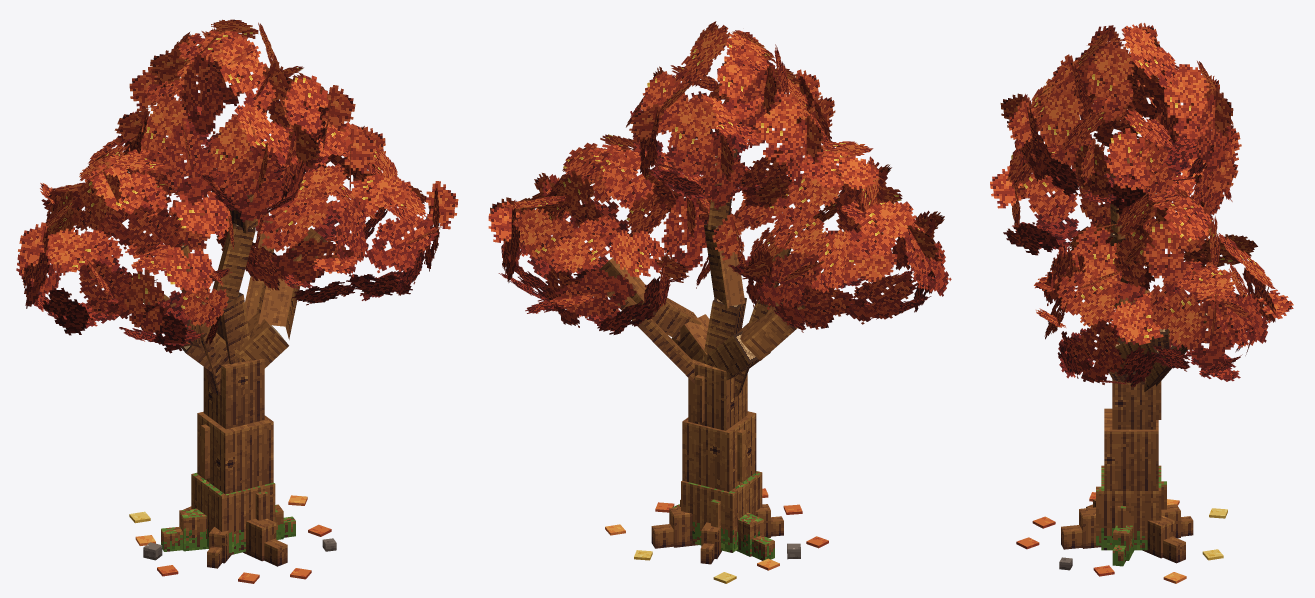
The model's file is maple_tree.glb.
The picture shows the model from 3 angles, left to right: view 1: azimuth 30°, elevation 25°; view 2: azimuth 150°, elevation 25°; view 3: azimuth 270°, elevation 25°; orthographic projection. The views are drawn at different scales.
Visible parts, largest first — view 1: maple_tree; view 2: maple_tree; view 3: maple_tree.
Boxes of the visible parts, left/top/right/bottom form: maple_tree: left=16, top=19, right=458, bottom=583; maple_tree: left=488, top=21, right=951, bottom=583; maple_tree: left=990, top=23, right=1293, bottom=583.
Bounding box in the file's own units: 5.66 × 6.5 × 3.58.
2 materials, 2 textured.
